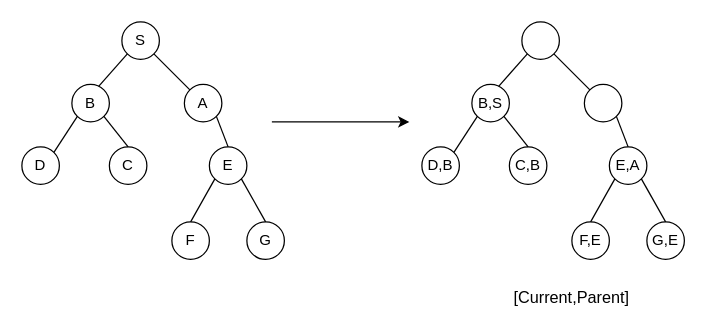
This 706x331 diagram has some shape labels left out. The centre of each missing label's shape, as x and y in pixels:
"A,S" belongs at pixel 602 102.
"S,nil" belongs at pixel 540 40.
